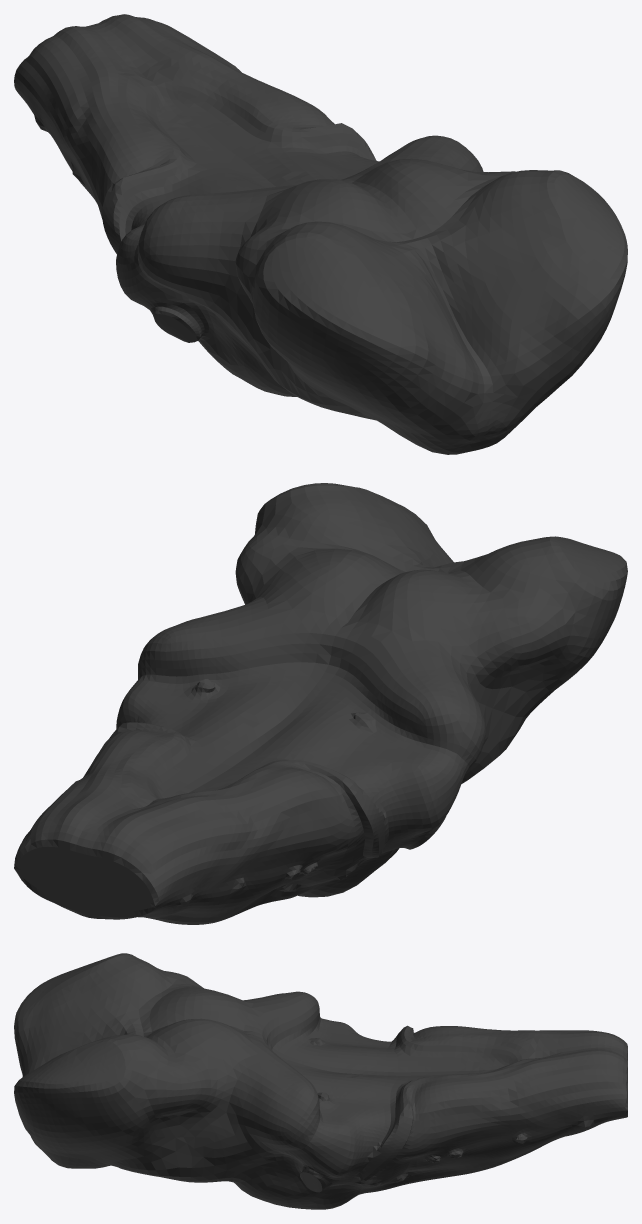
The model's file is Brainstem_low_Brainstem_low.glb.
The picture shows the model from 3 angles, top to bottom: view 1: azimuth 30°, elevation 25°; view 2: azimuth 150°, elevation 25°; view 3: azimuth 270°, elevation 25°; orthographic projection. The views are drawn at different scales.
Parts seen in each view (by area): view 1: Brainstem_low_Brainstem_low; view 2: Brainstem_low_Brainstem_low; view 3: Brainstem_low_Brainstem_low.
Boxes of the visible parts, left/top/right/bottom form: Brainstem_low_Brainstem_low: left=14, top=14, right=627, bottom=454; Brainstem_low_Brainstem_low: left=14, top=483, right=627, bottom=924; Brainstem_low_Brainstem_low: left=14, top=953, right=627, bottom=1209.
Size of the model in its own units: 26.54 by 19.97 by 55.83.
Materials: 1 (1 with a texture image).
